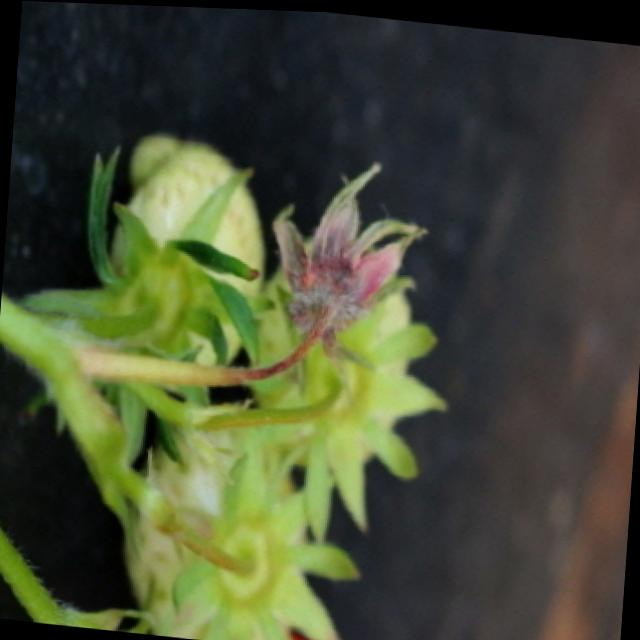Gray Mold: (270, 159, 432, 360)
